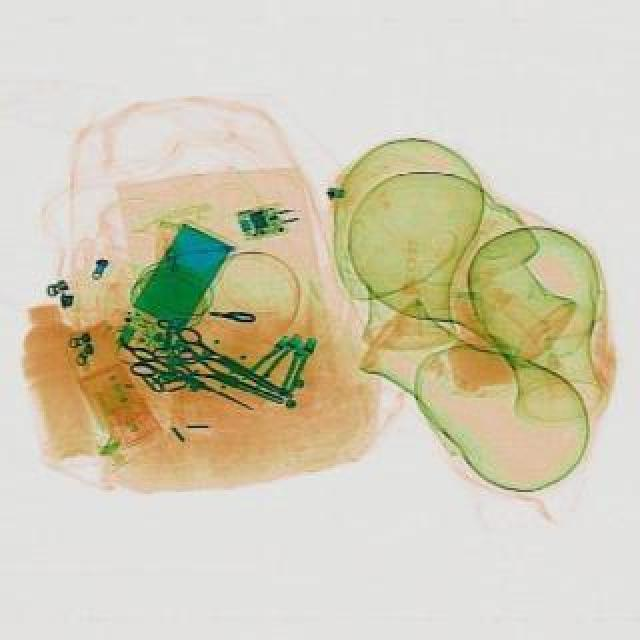pliers: (164, 328, 302, 408), (124, 348, 258, 420)
